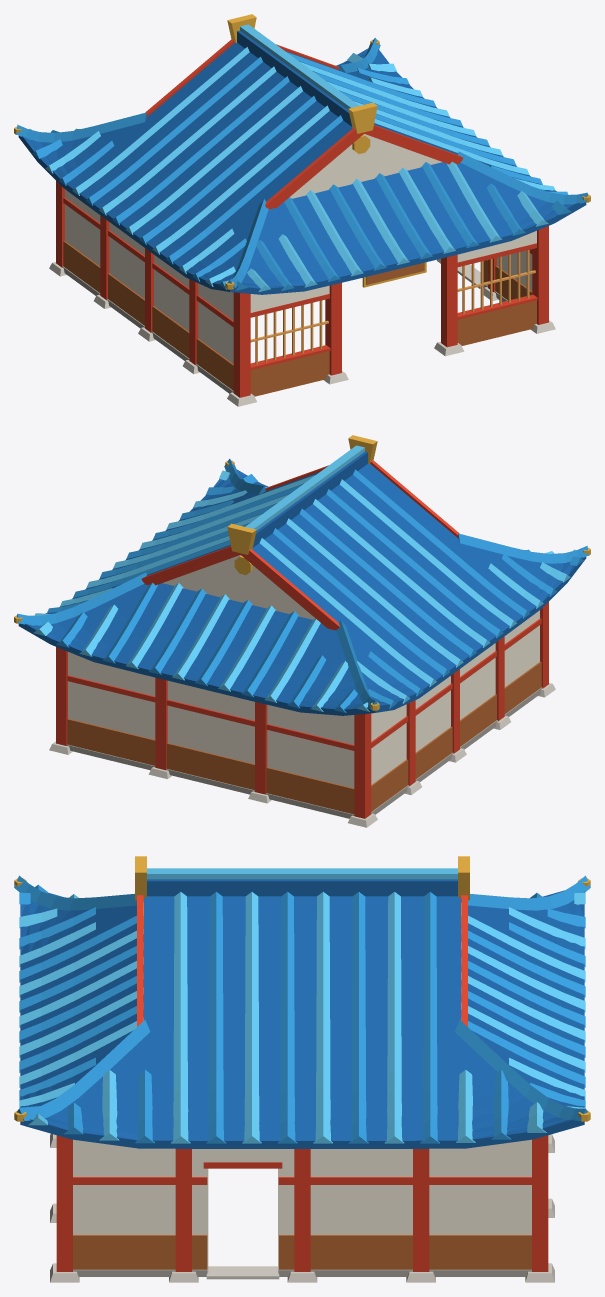
The model's file is FeudalStarter.fbx.
3 views of the same model, one above another, from view 1: azimuth 30°, elevation 25°; view 2: azimuth 150°, elevation 25°; view 3: azimuth 270°, elevation 25° (orthographic). The views are drawn at different scales.
Visible parts, largest first — view 1: FeudalStarter_Roof_fd_roof_dk, FeudalStarter_Roof_fd_roof, FeudalStarter_Roof_fd_roof_lt, FeudalStarter_fd_red, FeudalStarter_fd_wood_dk, FeudalStarter_fd_plaster, FeudalStarter_Roof_fd_plaster, FeudalStarter_Roof_fd_red, FeudalStarter_fd_wood, FeudalStarter_fd_stone, FeudalStarter_Roof_gold, FeudalStarter_fd_stone_dk; view 2: FeudalStarter_Roof_fd_roof_dk, FeudalStarter_fd_plaster, FeudalStarter_Roof_fd_roof, FeudalStarter_Roof_fd_roof_lt, FeudalStarter_fd_wood_dk, FeudalStarter_fd_red, FeudalStarter_Roof_fd_plaster, FeudalStarter_Roof_fd_red, FeudalStarter_fd_stone_dk, FeudalStarter_Roof_gold, FeudalStarter_fd_stone; view 3: FeudalStarter_Roof_fd_roof_dk, FeudalStarter_Roof_fd_roof, FeudalStarter_Roof_fd_roof_lt, FeudalStarter_fd_plaster, FeudalStarter_fd_red, FeudalStarter_fd_wood_dk, FeudalStarter_fd_stone, FeudalStarter_fd_stone_dk, FeudalStarter_Roof_fd_red, FeudalStarter_Roof_gold.
Part boxes in pixels (x1=…): FeudalStarter_Roof_fd_roof_dk: x1=18, y1=30, x2=586, y2=294; FeudalStarter_Roof_fd_roof: x1=16, y1=37, x2=587, y2=290; FeudalStarter_Roof_fd_roof_lt: x1=29, y1=24, x2=555, y2=291; FeudalStarter_fd_red: x1=56, y1=181, x2=548, y2=397; FeudalStarter_fd_wood_dk: x1=63, y1=241, x2=536, y2=396; FeudalStarter_fd_plaster: x1=65, y1=189, x2=536, y2=363; FeudalStarter_Roof_fd_plaster: x1=290, y1=134, x2=442, y2=198; FeudalStarter_Roof_fd_red: x1=145, y1=39, x2=463, y2=209; FeudalStarter_fd_wood: x1=250, y1=250, x2=535, y2=364; FeudalStarter_fd_stone: x1=49, y1=258, x2=555, y2=406; FeudalStarter_Roof_gold: x1=14, y1=14, x2=590, y2=289; FeudalStarter_fd_stone_dk: x1=62, y1=266, x2=507, y2=393; FeudalStarter_Roof_fd_roof_dk: x1=18, y1=451, x2=586, y2=715; FeudalStarter_fd_plaster: x1=68, y1=610, x2=539, y2=788; FeudalStarter_Roof_fd_roof: x1=17, y1=458, x2=588, y2=712; FeudalStarter_Roof_fd_roof_lt: x1=33, y1=445, x2=570, y2=711; FeudalStarter_fd_wood_dk: x1=67, y1=662, x2=541, y2=814; FeudalStarter_fd_red: x1=56, y1=602, x2=548, y2=818; FeudalStarter_Roof_fd_plaster: x1=162, y1=555, x2=314, y2=619; FeudalStarter_Roof_fd_red: x1=141, y1=460, x2=459, y2=630; FeudalStarter_fd_stone_dk: x1=66, y1=687, x2=542, y2=818; FeudalStarter_Roof_gold: x1=14, y1=435, x2=590, y2=710; FeudalStarter_fd_stone: x1=49, y1=683, x2=555, y2=827; FeudalStarter_Roof_fd_roof_dk: x1=20, y1=879, x2=584, y2=1148; FeudalStarter_Roof_fd_roof: x1=14, y1=875, x2=590, y2=1143; FeudalStarter_Roof_fd_roof_lt: x1=19, y1=868, x2=585, y2=1143; FeudalStarter_fd_plaster: x1=73, y1=1139, x2=531, y2=1272; FeudalStarter_fd_red: x1=56, y1=1135, x2=548, y2=1271; FeudalStarter_fd_wood_dk: x1=73, y1=1235, x2=531, y2=1269; FeudalStarter_fd_stone: x1=50, y1=1133, x2=554, y2=1282; FeudalStarter_fd_stone_dk: x1=73, y1=1269, x2=531, y2=1276; FeudalStarter_Roof_fd_red: x1=137, y1=895, x2=467, y2=1026; FeudalStarter_Roof_gold: x1=14, y1=856, x2=590, y2=1121.
Bounding box in the file's own units: 37.87 × 23.4 × 38.87.
